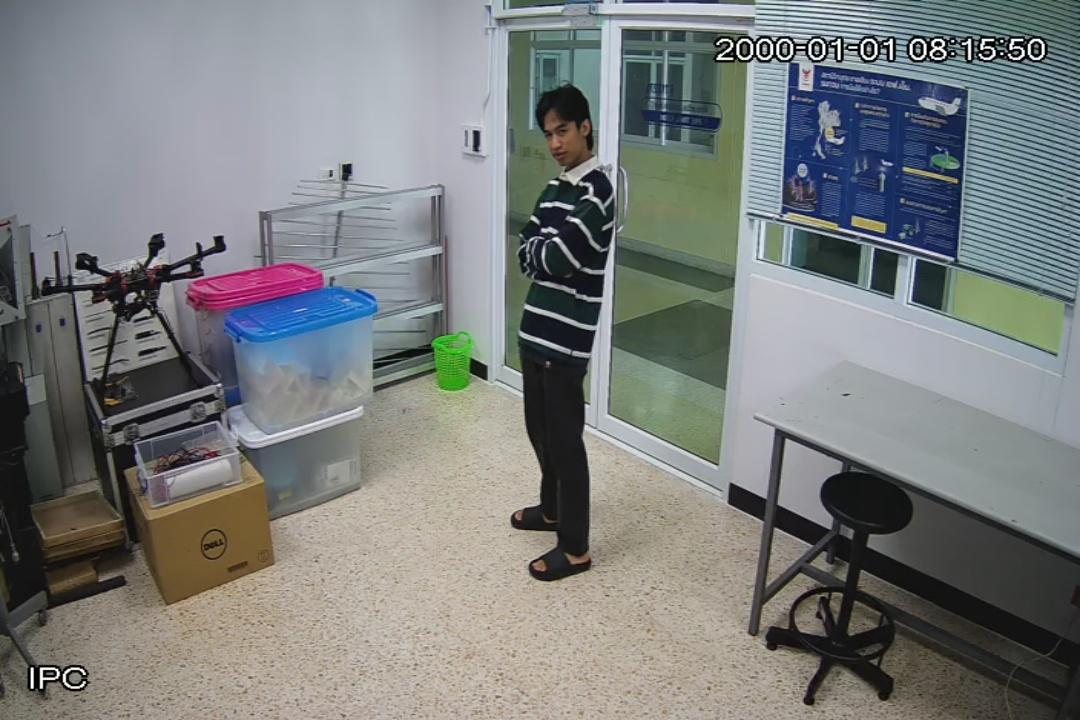normal: (509, 81, 619, 586)
